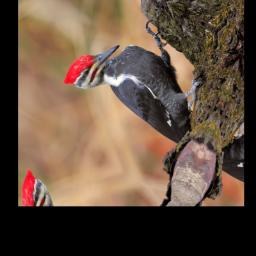Woodpecker: (62, 0, 220, 153)
